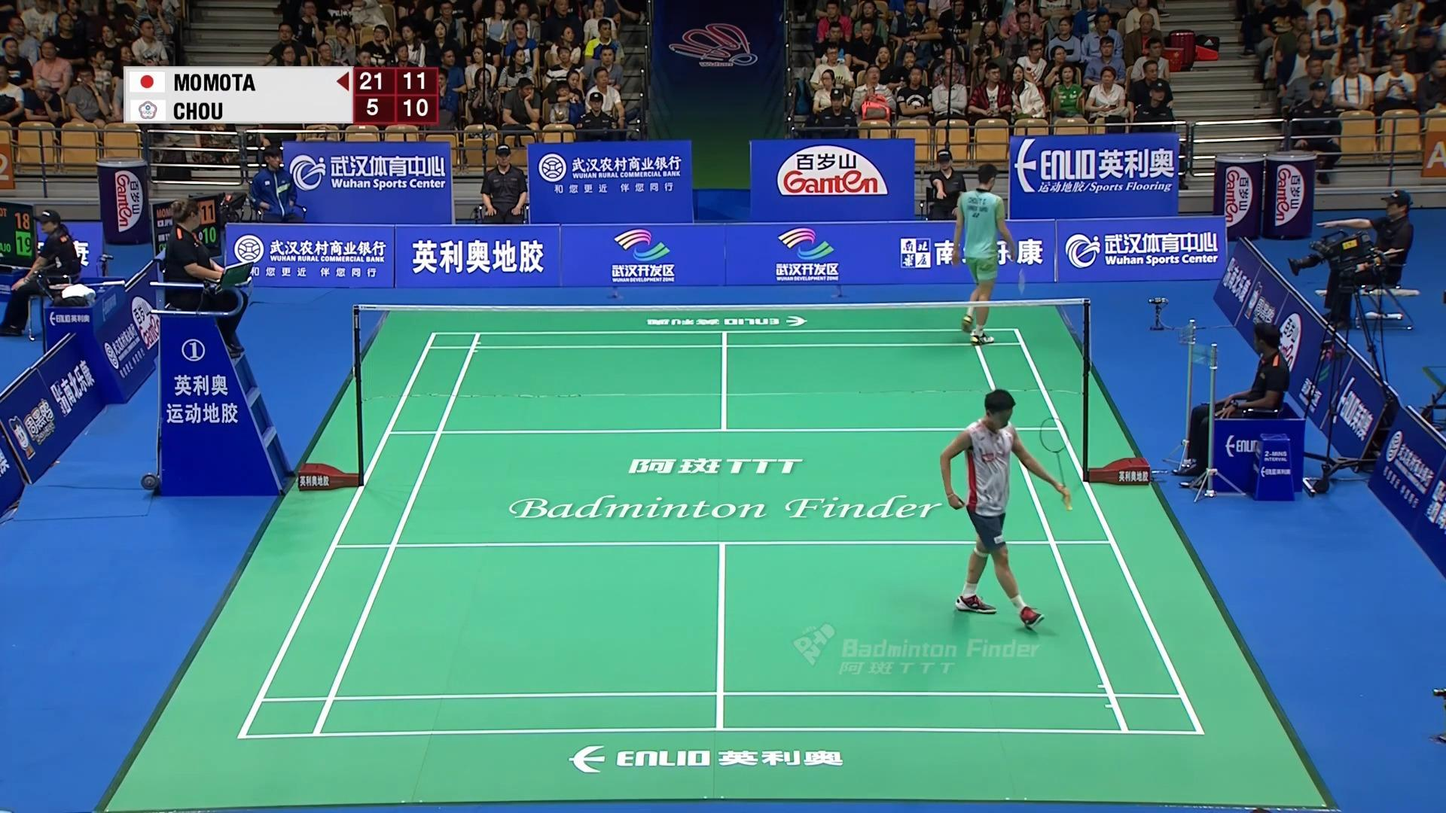player: (941, 388, 1069, 630), (953, 161, 1015, 345)
